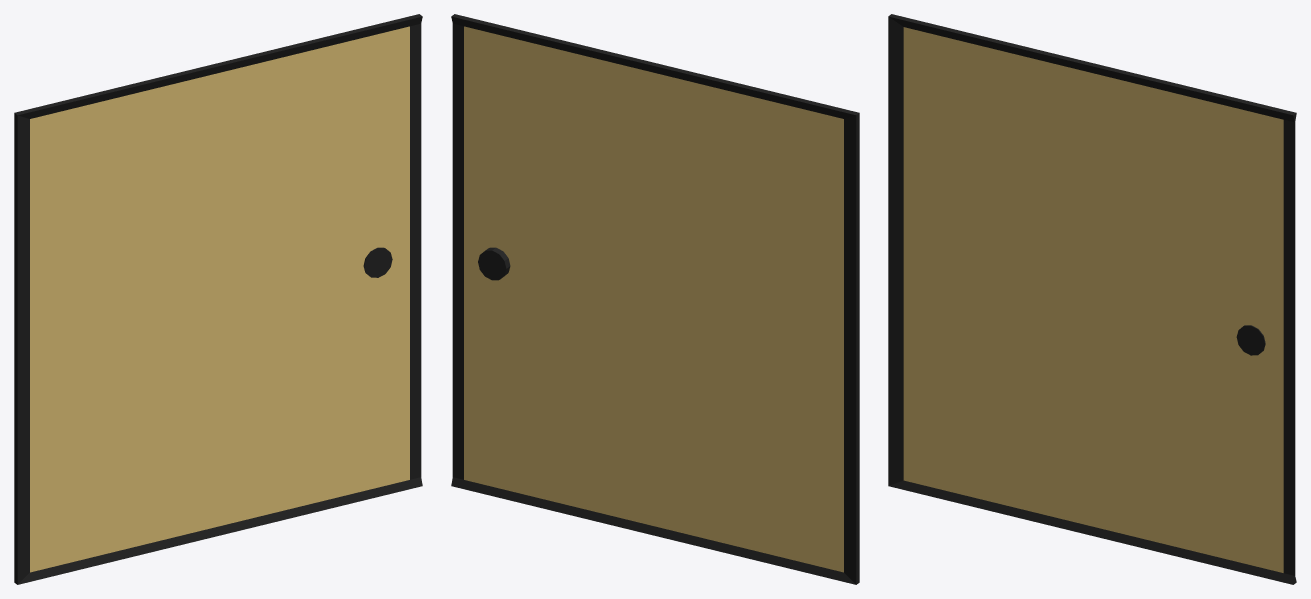
File: Door.fbx
3 renders of one model, left to right at view 1: azimuth 30°, elevation 25°; view 2: azimuth 150°, elevation 25°; view 3: azimuth 330°, elevation 25°, orthographic.
Visible parts, largest first — view 1: Door; view 2: Door; view 3: Door.
Part boxes in pixels (x1,y1,x2,y2): Door: (14,14,422,584); Door: (451,14,859,584); Door: (888,14,1296,584).
Size of the model in its own units: 398 by 441 by 10.03.
